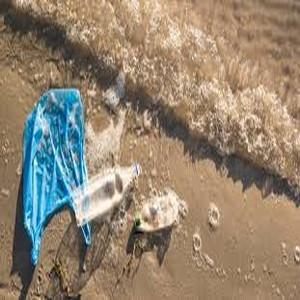Plastic: (73, 162, 139, 228)
